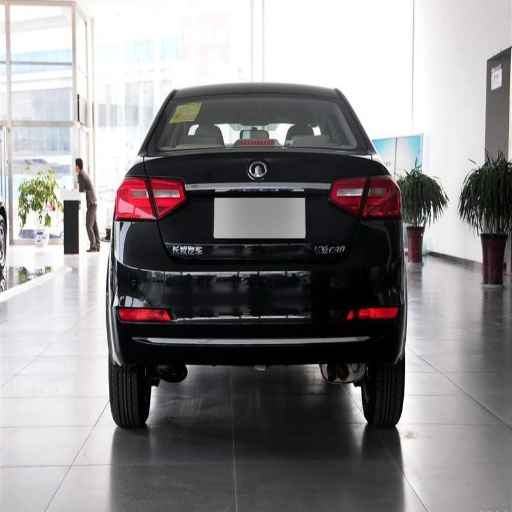back_bumper: (112, 218, 411, 356)
tailgate: (289, 149, 369, 260)
trunk: (151, 151, 320, 293)
